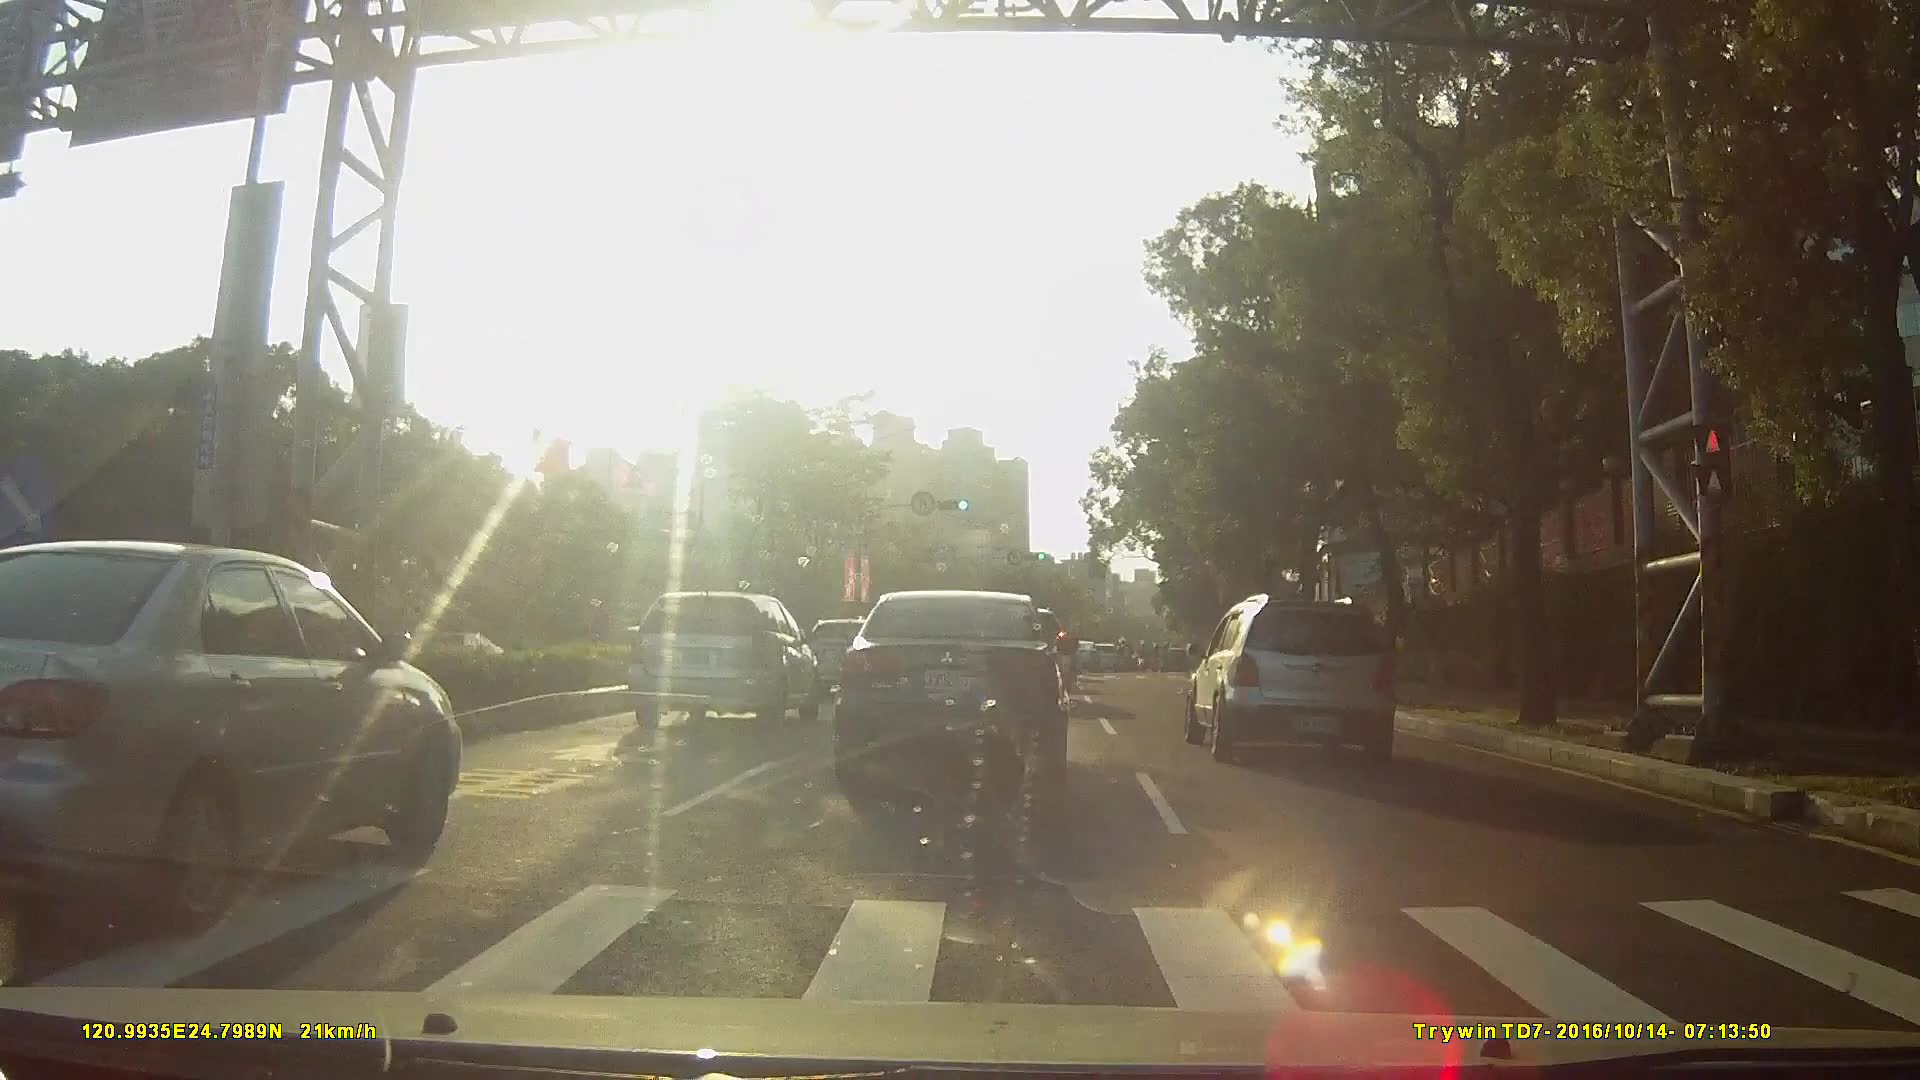vehicle: (1, 535, 473, 927), (835, 592, 1067, 804), (1178, 595, 1414, 777), (618, 597, 819, 735), (1062, 646, 1097, 682), (1083, 647, 1120, 679)
